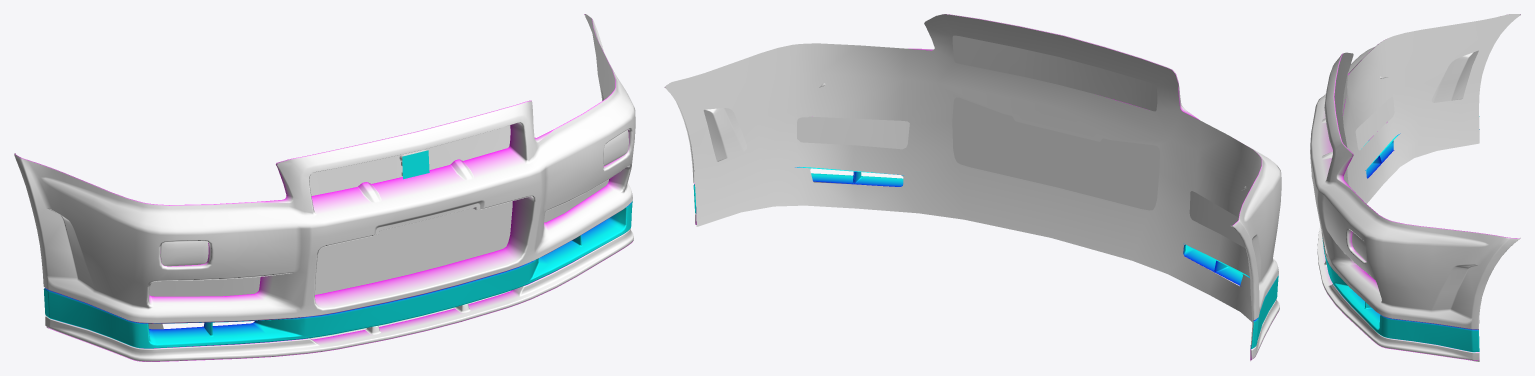
File: Car_Nissan_SkylineGTRVspecR34_1999_BumperF_SetB.fbx
3 renders of one model, left to right at view 1: azimuth 30°, elevation 25°; view 2: azimuth 150°, elevation 25°; view 3: azimuth 270°, elevation 25°, orthographic. The views are drawn at different scales.
Parts seen in each view (by area): view 1: BumperF 6; view 2: BumperF 6; view 3: BumperF 6.
Boxes of the visible parts, left/top/right/bottom form: BumperF 6: left=14, top=14, right=635, bottom=361; BumperF 6: left=664, top=14, right=1281, bottom=361; BumperF 6: left=1310, top=14, right=1520, bottom=361.
Size of the model in its own units: 1.77 by 0.5741 by 0.7026.
